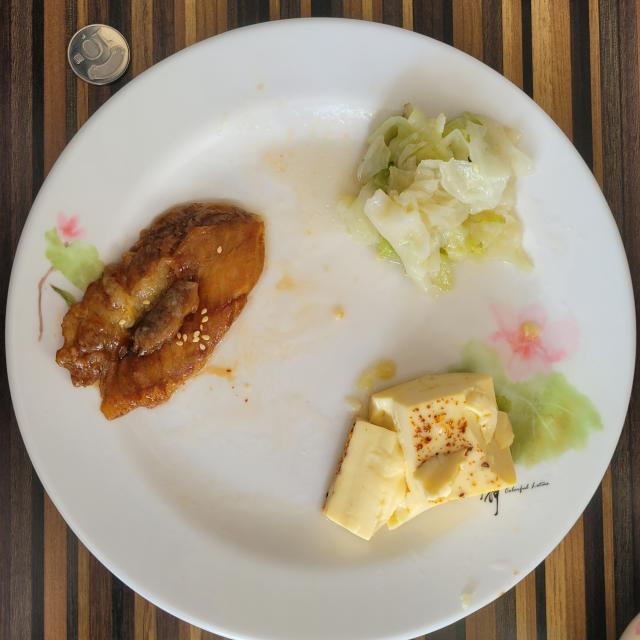Kabayaki sea bream fillet: (56, 202, 265, 419)
cabbage: (340, 104, 535, 294)
coin: (68, 24, 130, 85)
